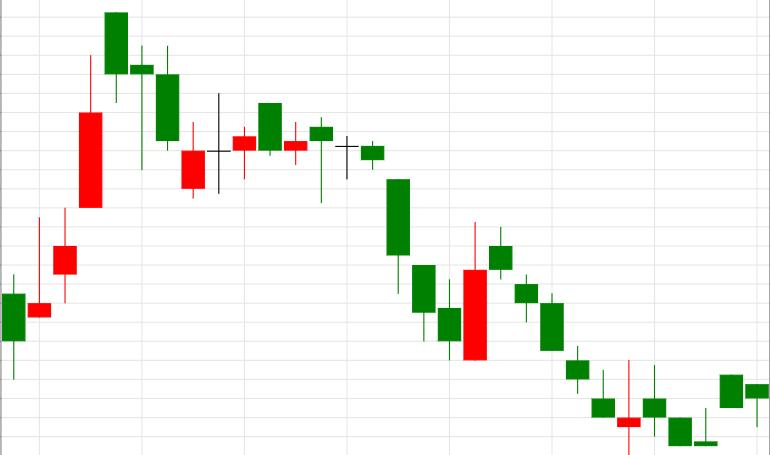bullish_engulfing_rise: (310, 116, 487, 360)
